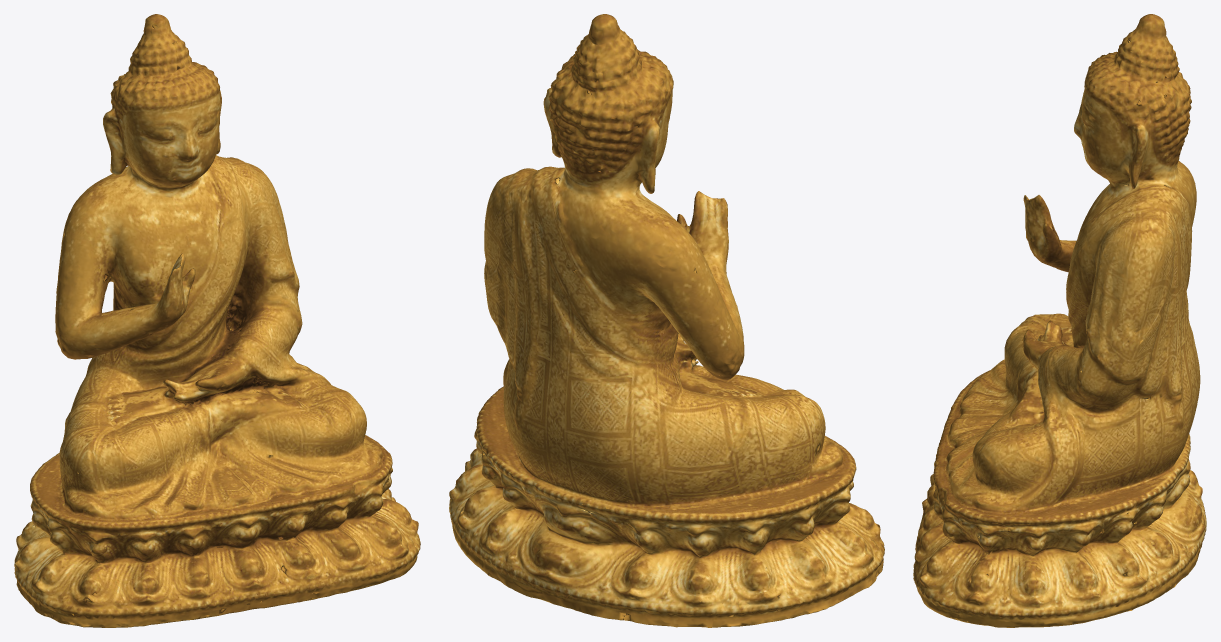
File: buddha.glb
3 renders of one model, left to right at view 1: azimuth 30°, elevation 25°; view 2: azimuth 150°, elevation 25°; view 3: azimuth 270°, elevation 25°, orthographic. The views are drawn at different scales.
Parts seen in each view (by area): view 1: Object_3; view 2: Object_3; view 3: Object_3.
Part boxes in pixels (<box>): Object_3: <box>14,14,420,627</box>; Object_3: <box>449,14,884,627</box>; Object_3: <box>913,14,1206,627</box>.
Bounding box in the file's own units: 0.145 × 0.1969 × 0.0994.
1 material, 1 textured.
